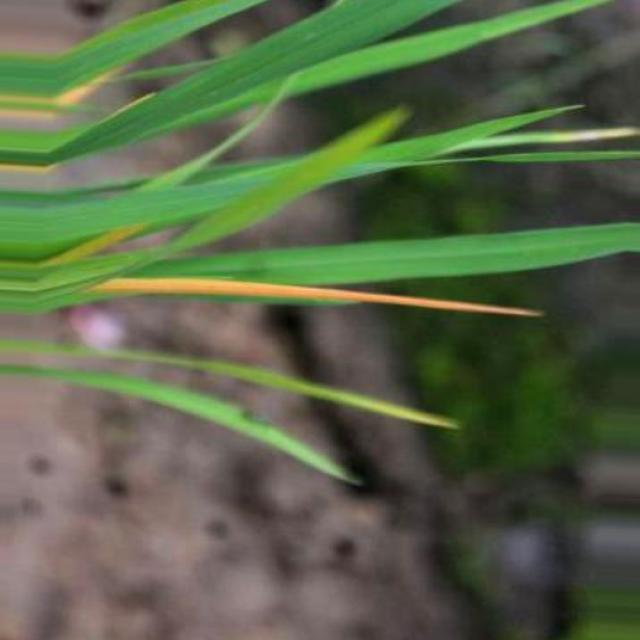Rice Tungro: (90, 278, 543, 317), (459, 126, 640, 151), (39, 225, 146, 266)
